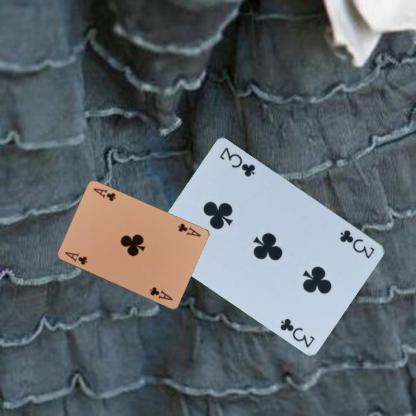3c: (337, 226, 376, 260)
Ac: (175, 221, 202, 238), (62, 249, 88, 266)
